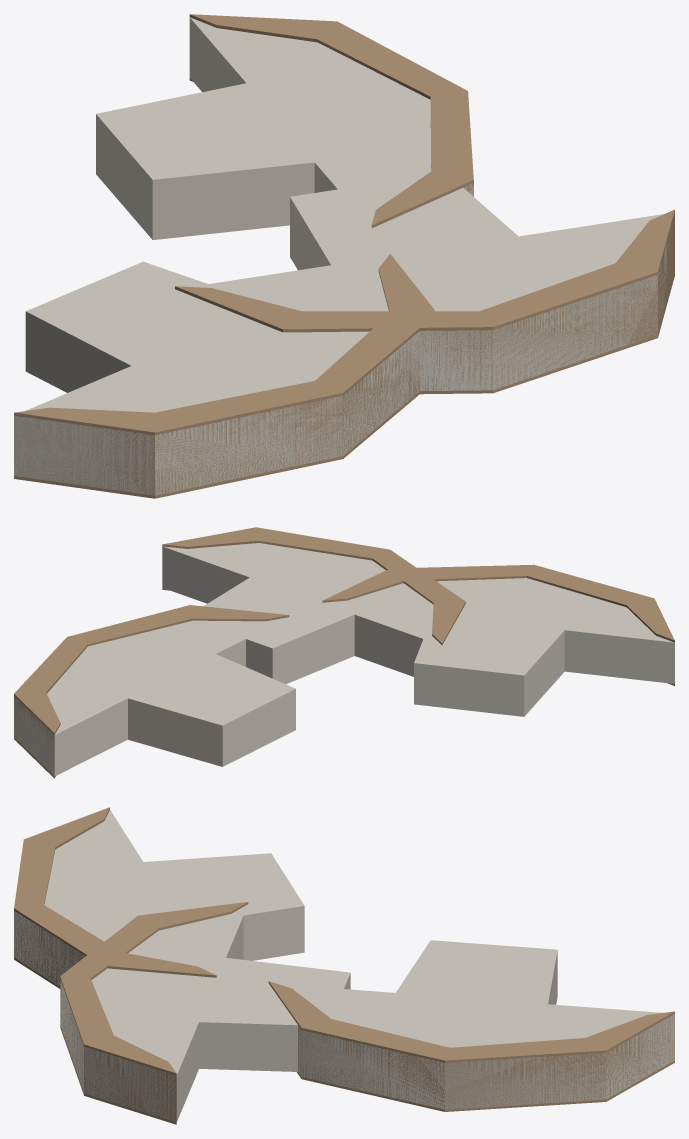
File: kr_mushroom_ch.glb
3 renders of one model, top to bottom at view 1: azimuth 30°, elevation 25°; view 2: azimuth 150°, elevation 25°; view 3: azimuth 270°, elevation 25°, orthographic. The views are drawn at different scales.
Parts seen in each view (by area): view 1: vc_m0_r6; view 2: vc_m0_r6; view 3: vc_m0_r6.
Part boxes in pixels (x1=…): vc_m0_r6: x1=14, y1=14, x2=674, y2=498; vc_m0_r6: x1=14, y1=527, x2=674, y2=778; vc_m0_r6: x1=14, y1=807, x2=674, y2=1124.
Bounding box in the file's own units: 0.2444 × 0.022 × 0.2564.
